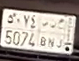0: (12, 18, 21, 45)
4: (28, 14, 37, 47)
5: (4, 14, 14, 45)
7: (21, 14, 30, 45)
B: (40, 20, 49, 46)
J: (56, 18, 66, 48)
N: (48, 18, 57, 48)
